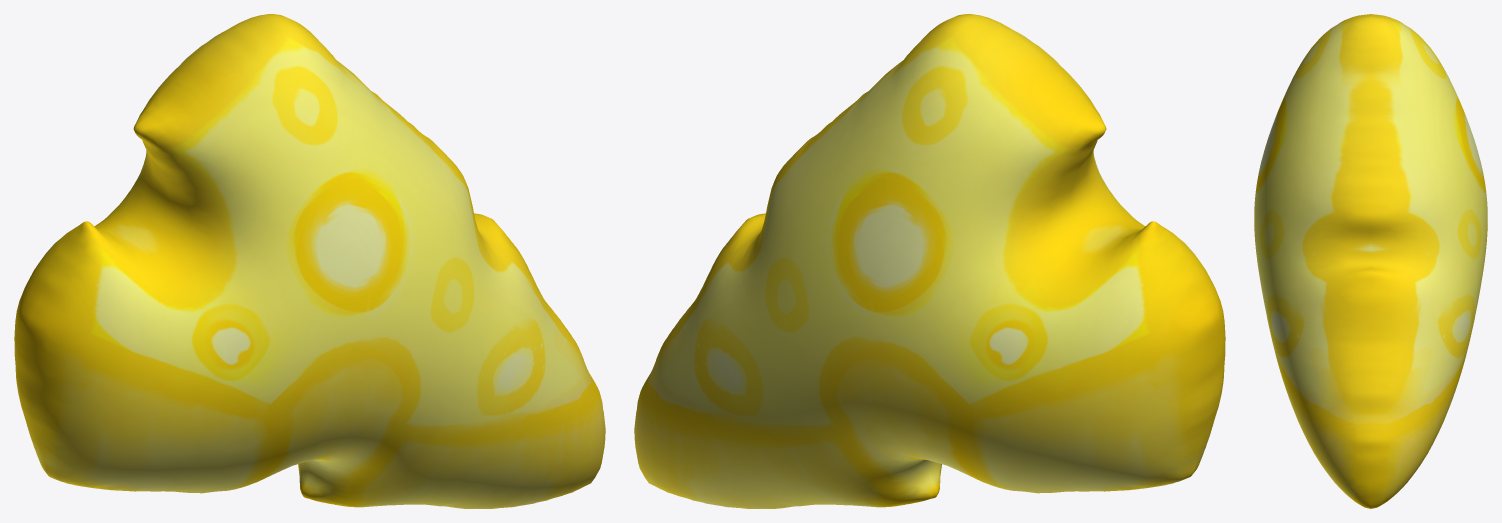
Rendered from CheeseStatic.glb.
The picture shows the model from 3 angles, left to right: view 1: azimuth 30°, elevation 25°; view 2: azimuth 150°, elevation 25°; view 3: azimuth 270°, elevation 25°; orthographic projection. The views are drawn at different scales.
Bounding box in the file's own units: 6.82 × 6.19 × 3.41.
Materials: 1 (1 with a texture image).
